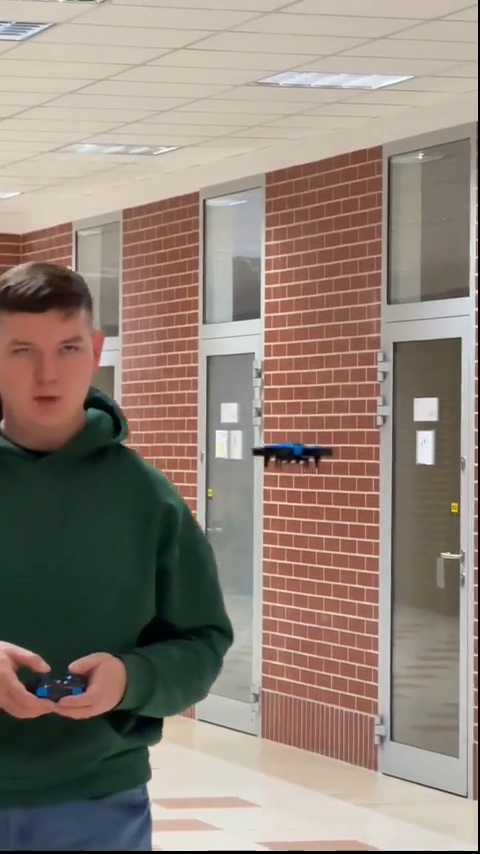drone: (251, 442, 333, 468)
no vest: (0, 259, 234, 850)
